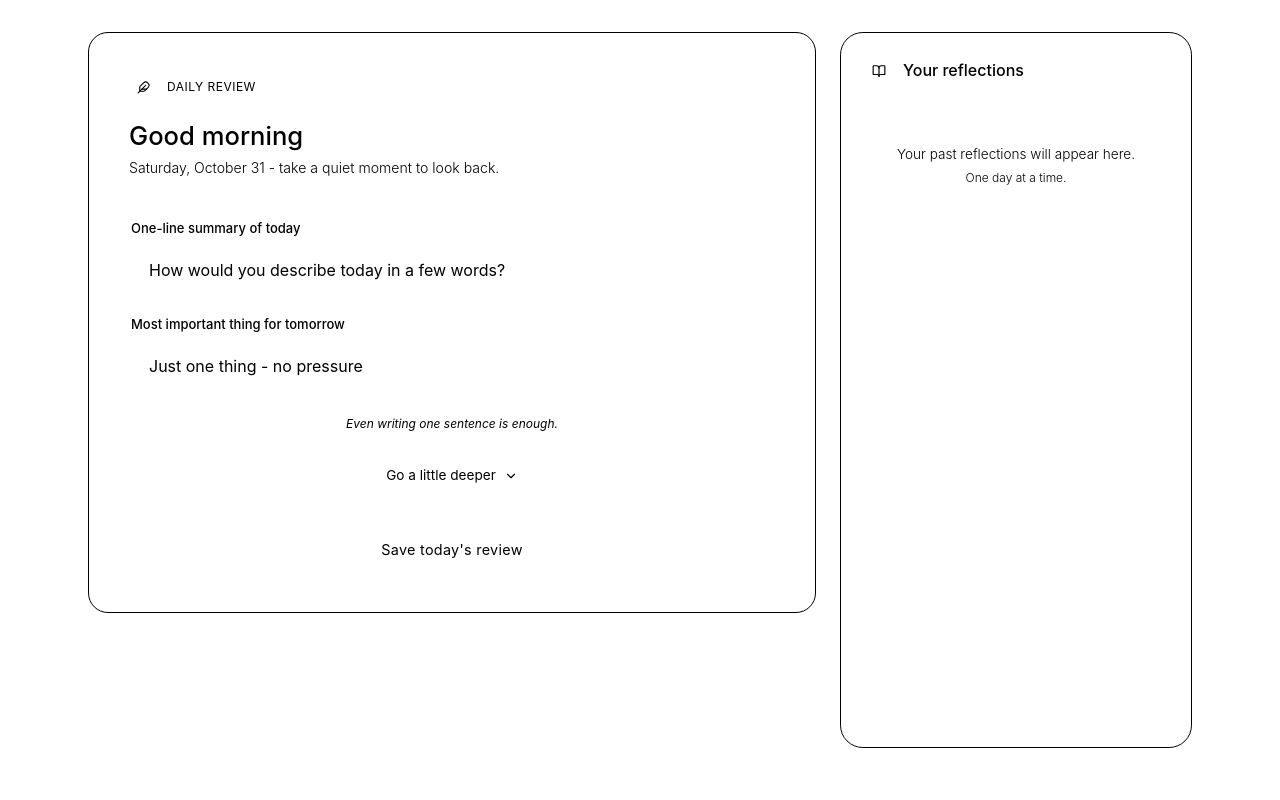
Test: ReviewPage › shows error and stays incomplete when diary write fails
Click the button "Save today's review" at x=452, y=550, box [349,528,555,572]
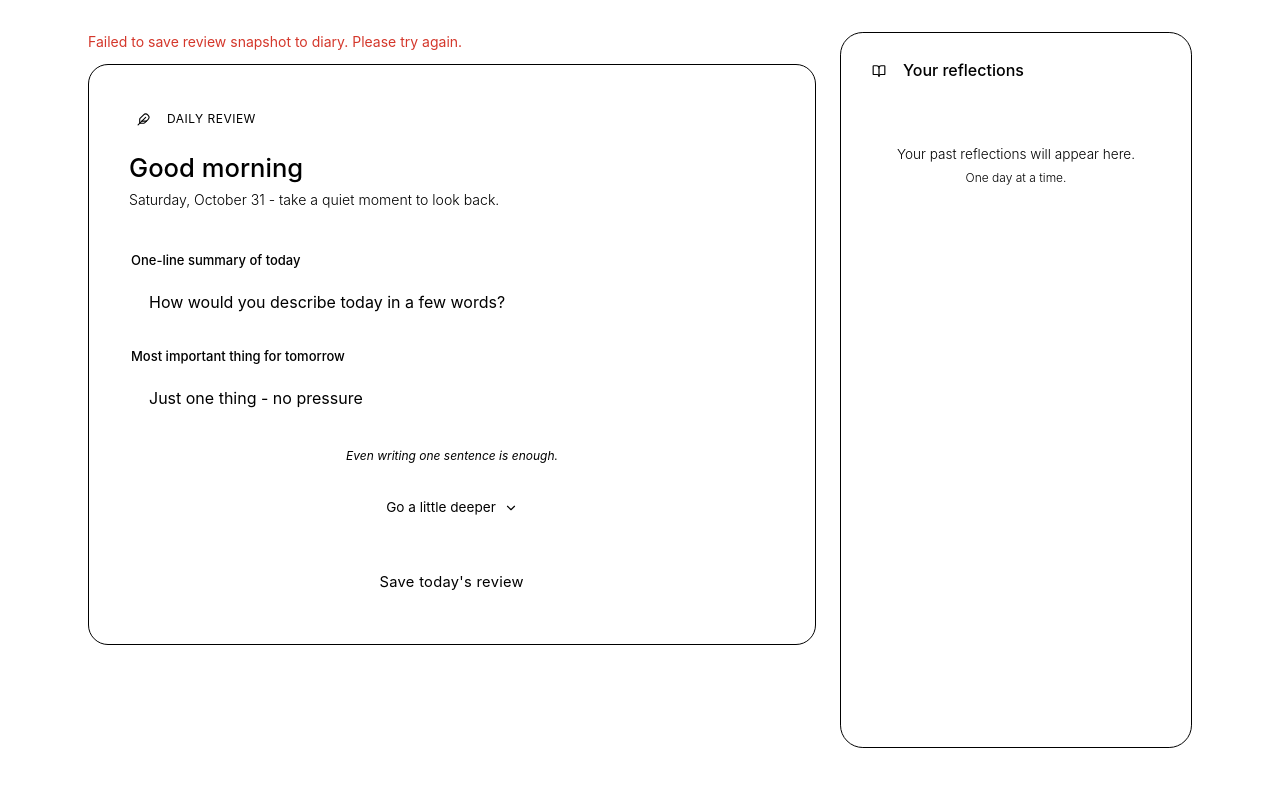
Expected: the text "Failed to save review snapshot to diary. Please try again." is shown, [88,33,462,50]
